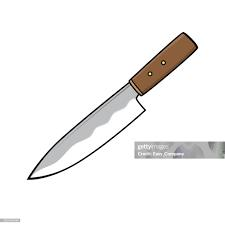Knife: (26, 31, 198, 180)
